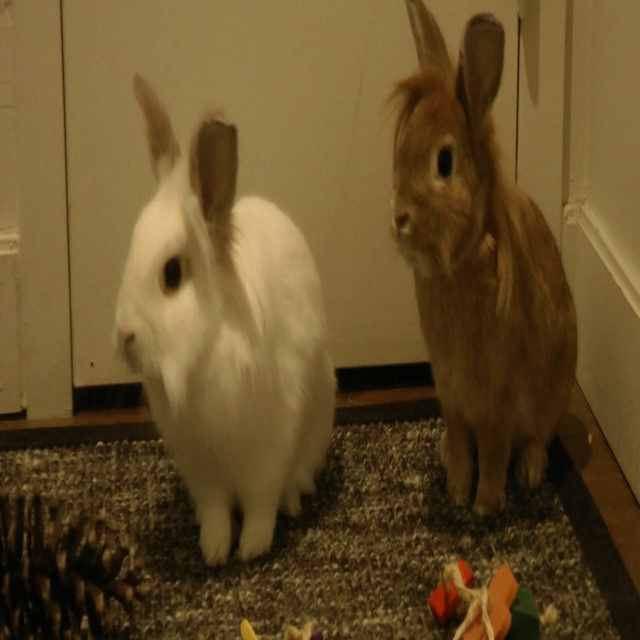Rabbit: (107, 69, 341, 571), (381, 0, 580, 523)
